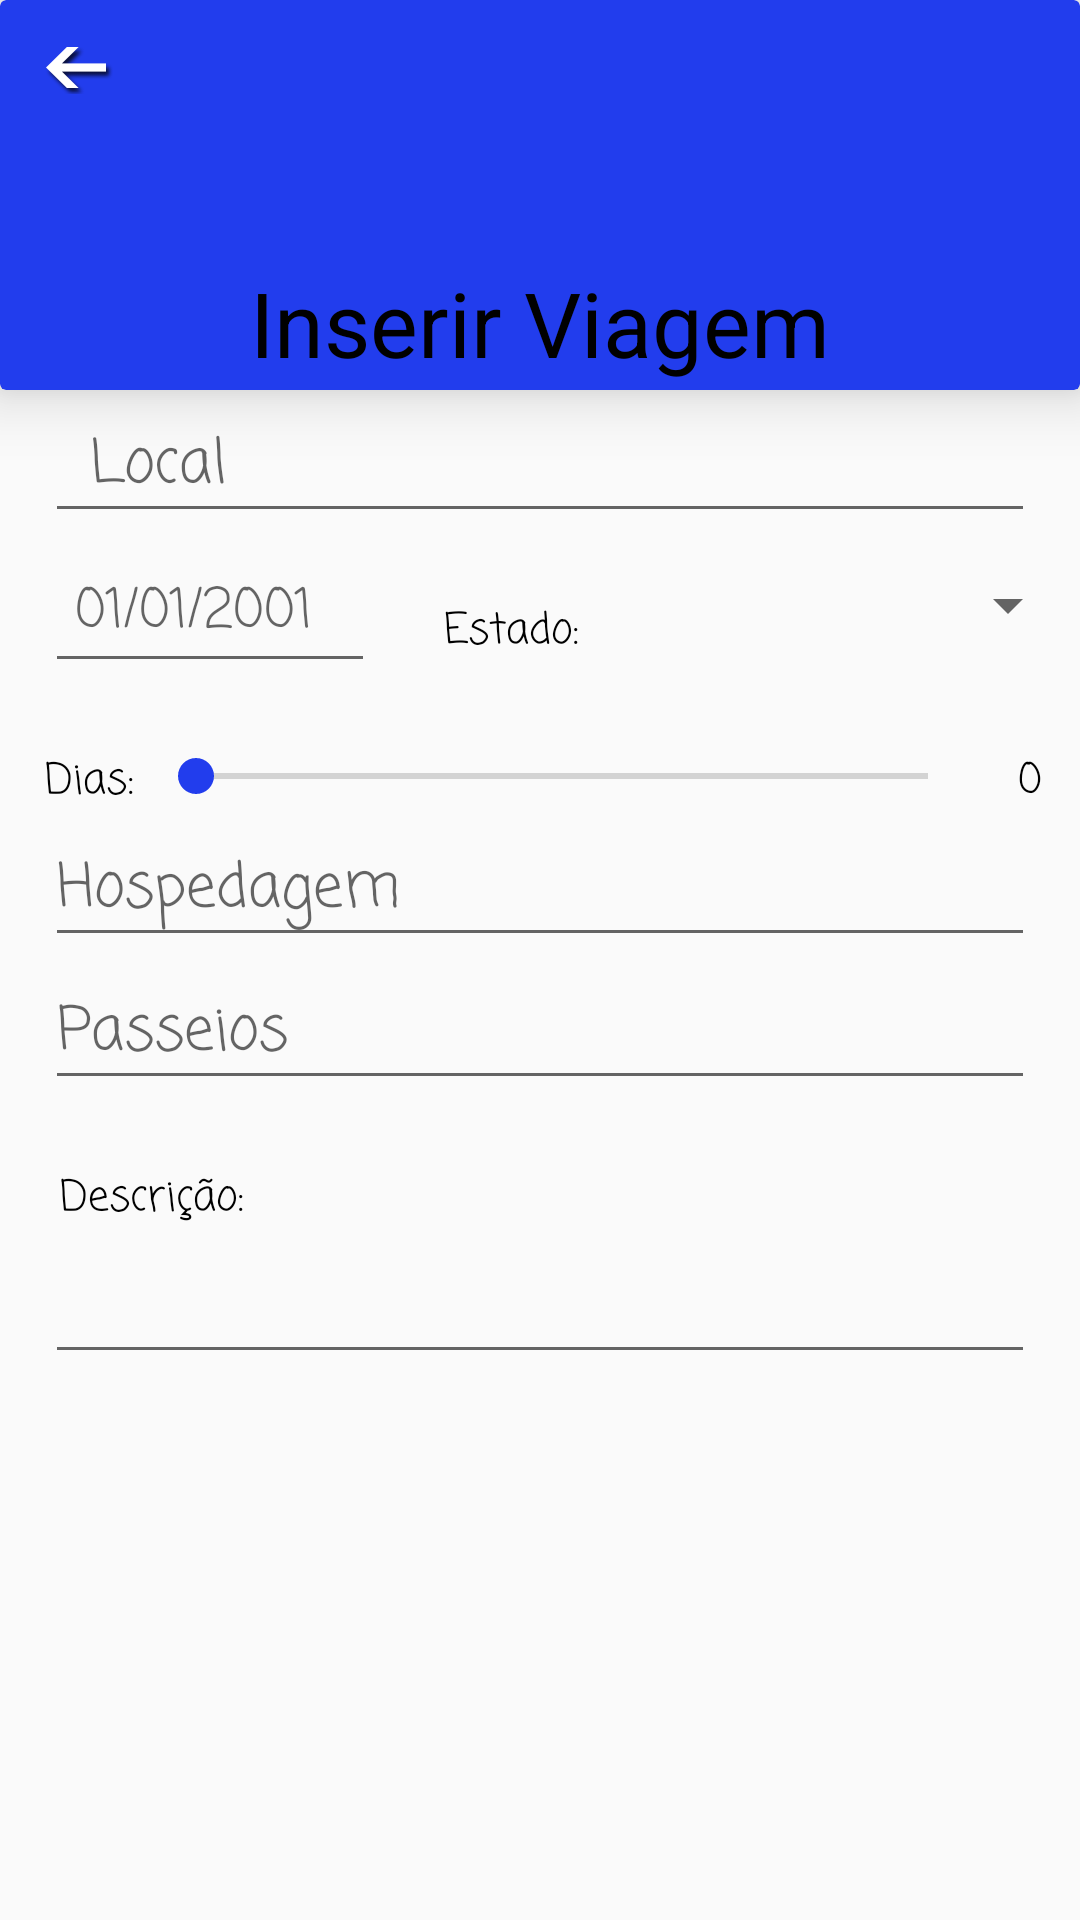

Screen size 1080×1920. Icon name, then its center in pixels as [x,y]:
imgback: [78,70]
